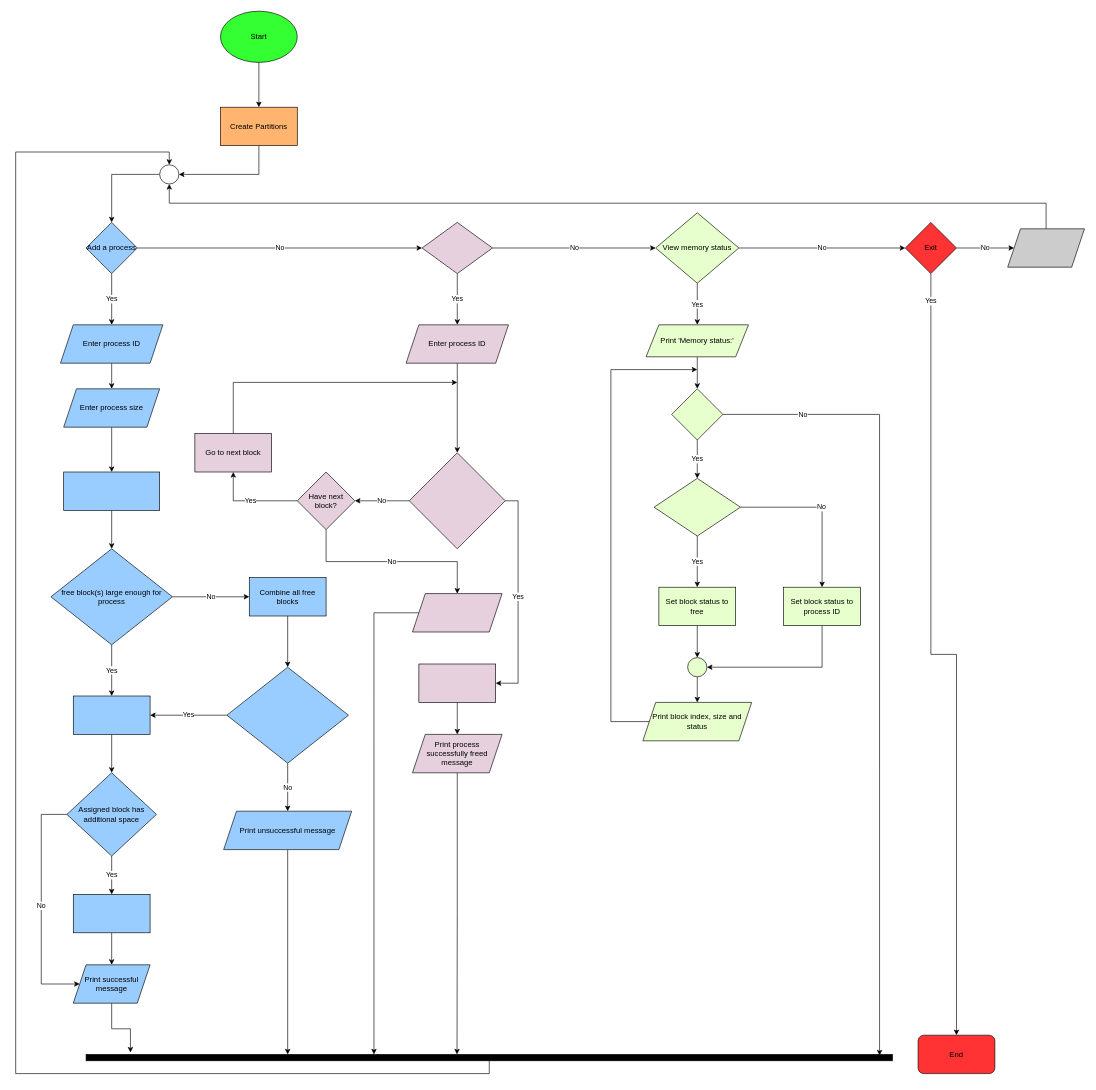
Some shapes in this 1096 by 1090 pixel diagram are drawn without their labels. Each missing label, with the centre of its shape:
Assign process to the largest block: the point at 111,714
Block's process ID = process ID: the point at 457,500
Check available blocks: the point at 111,490
Create new block with the additional space: the point at 111,913
free block large enough for process: the point at 287,715
Free process: the point at 456,248
Has more blocks: the point at 697,414
is Block free of a process?: the point at 696,507
Print error finding process ID message: the point at 457,612
Print Unknown command error: the point at 1045,247
Set block's ID = none: the point at 457,682
